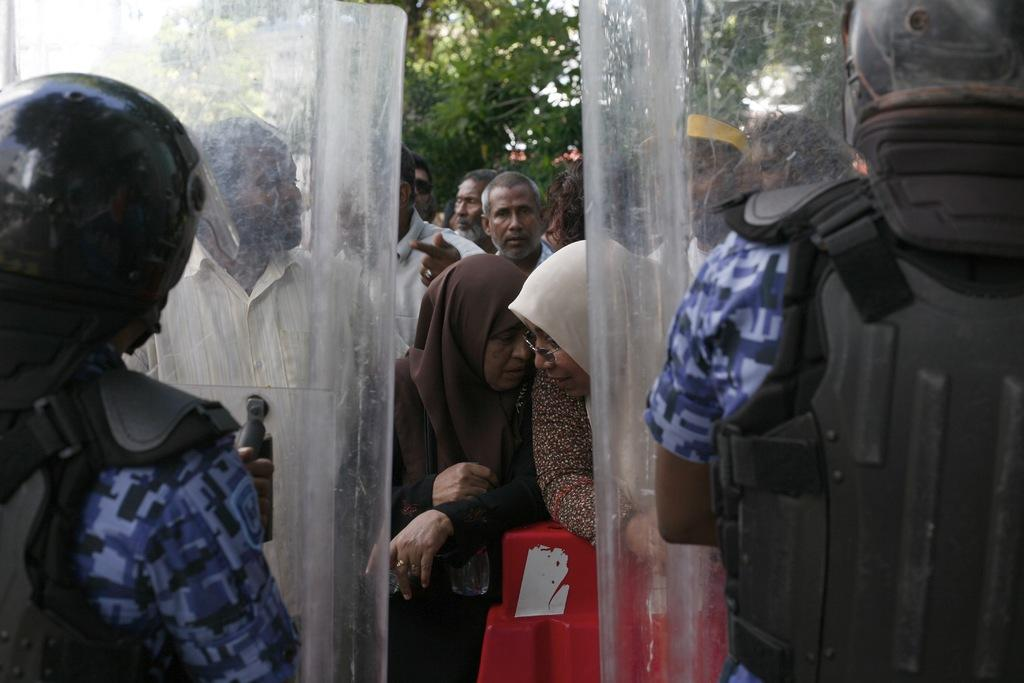helmet: (0, 72, 240, 344), (841, 0, 1024, 183)
nohelmet: (187, 115, 306, 258), (640, 114, 753, 235), (480, 170, 552, 264), (453, 167, 514, 244)
